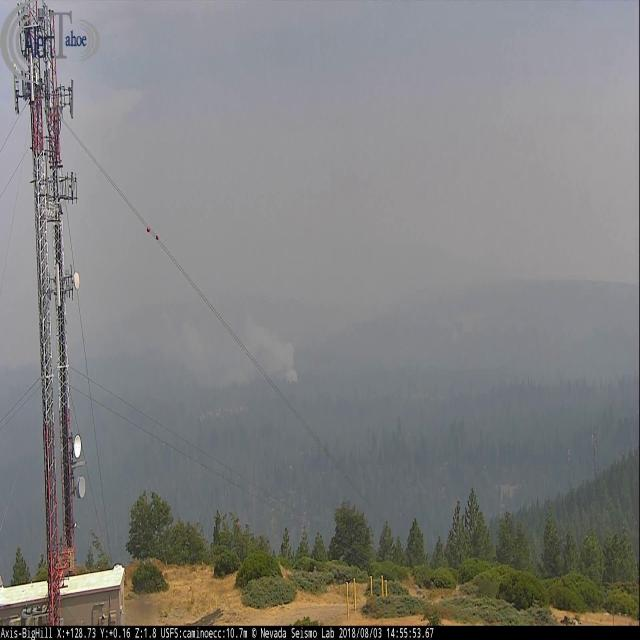smoke: (115, 306, 301, 389)
